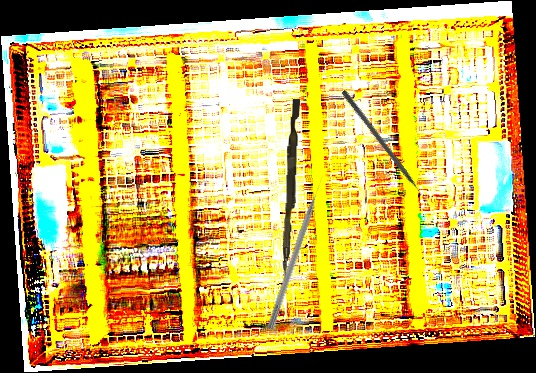Pusher: (340, 89, 430, 206), (266, 174, 328, 331), (281, 98, 301, 280)
